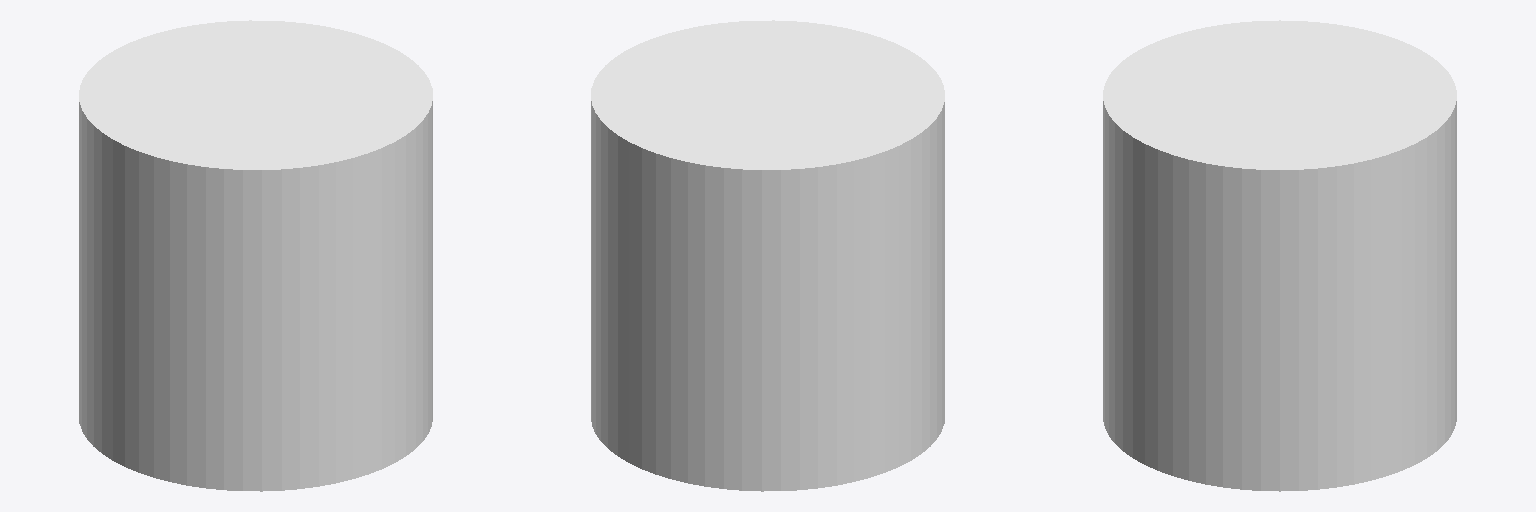
robot.urdf — digit:
<?xml version="1.0" ?>
<robot name="digit">
  <link concave="yes" name="baseLink">
    <inertial>
      <origin rpy="0 0 0" xyz="0 0 0"/>
       <mass value=".1"/>
       <inertia ixx="1" ixy="0" ixz="0" iyy="1" iyz="0" izz="1"/>
    </inertial>
    <visual>
      <origin rpy="0 0 0" xyz="0 0 0"/>
      <geometry>
        <!-- <cylinder radius="0.015" length="0.03"/> -->
        <mesh filename="cylinder.stl" scale="1.0"/>
      </geometry>
      <material name="white">
        <color rgba="1 1 1 1"/>
      </material>
    </visual>
    <collision concave="yes">
      <origin rpy="0 0 0" xyz="0 0 0"/>
      <geometry>
        <!-- <cylinder radius="0.015" length="0.03"/> -->
        <mesh filename="cylinder.stl" scale="1.0"/>
      </geometry>
    </collision>
  </link>
</robot>

--- Render facts (derived) ---
Views: 3 orthographic renders of the robot side by side, from view 1: azimuth 30°, elevation 25°; view 2: azimuth 150°, elevation 25°; view 3: azimuth 270°, elevation 25°.
Robot: digit — 1 links, 0 joints (none); root link baseLink; default pose: every joint at zero.
Links seen in each view (by area): view 1: baseLink; view 2: baseLink; view 3: baseLink.
Boxes of the visible links, box(x1,y1,x2,y2) form: baseLink: box(79, 20, 432, 491); baseLink: box(591, 20, 944, 491); baseLink: box(1103, 20, 1456, 491).
Size in the robot's own frame: 0.03 by 0.03 by 0.03 metres.
Meshes: 1 distinct files referenced, 1 mesh visuals loaded (1 binary STL).